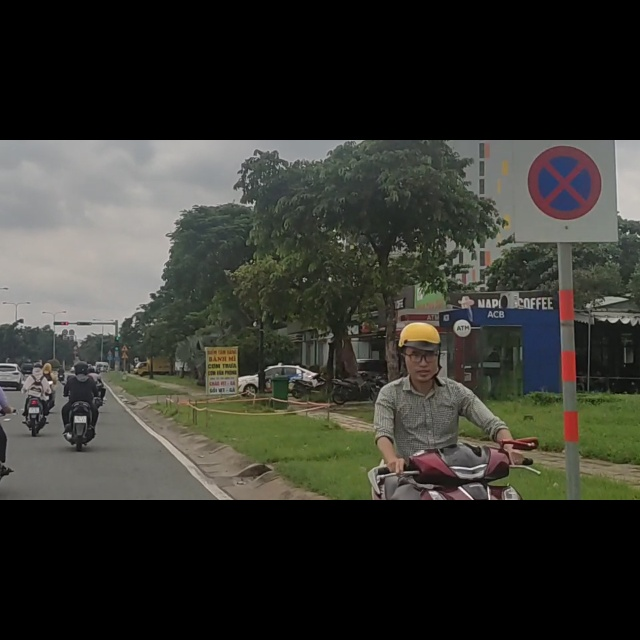bien_cam: (527, 9, 601, 146), (121, 363, 130, 376), (121, 376, 129, 390)
